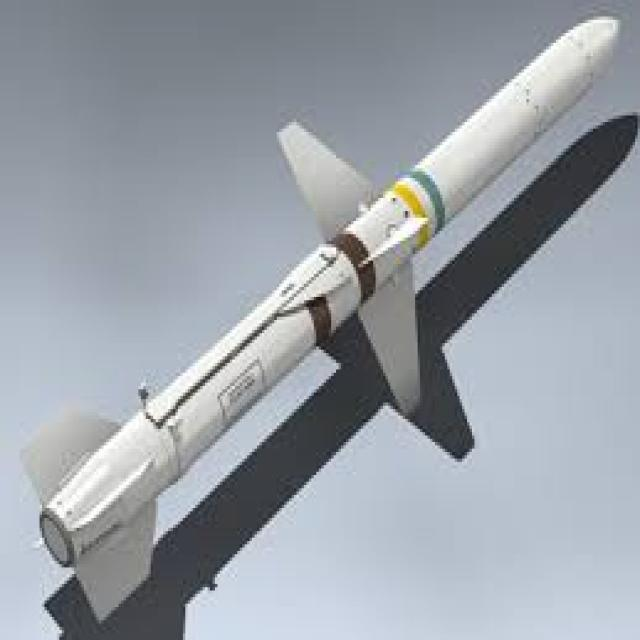missile: (14, 10, 629, 629)
